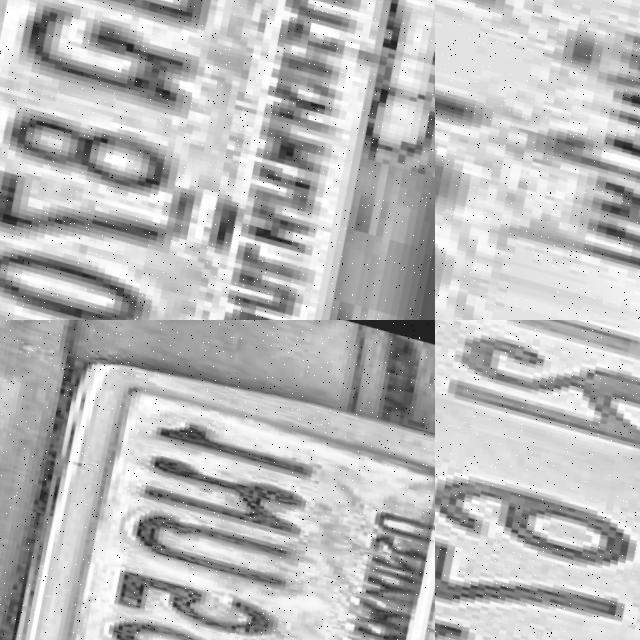license-plate: (0, 0, 435, 320), (0, 322, 435, 640), (435, 0, 640, 320), (435, 320, 640, 640)
